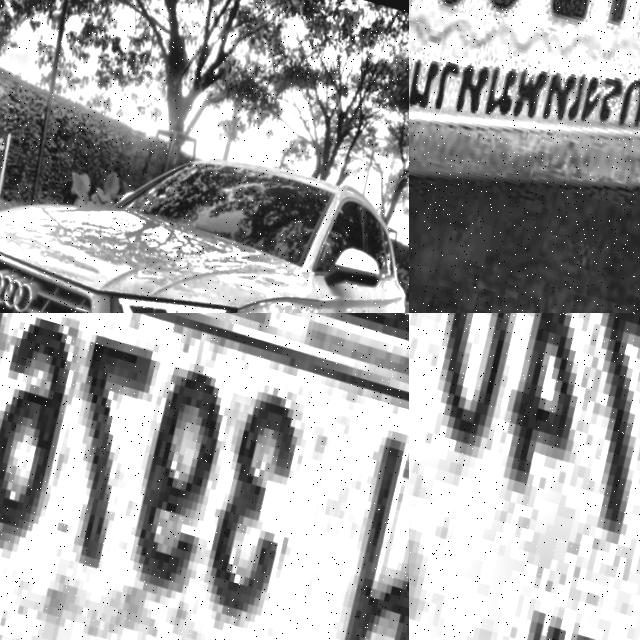license-plate: (0, 313, 409, 640), (409, 313, 640, 640), (409, 0, 640, 293)
